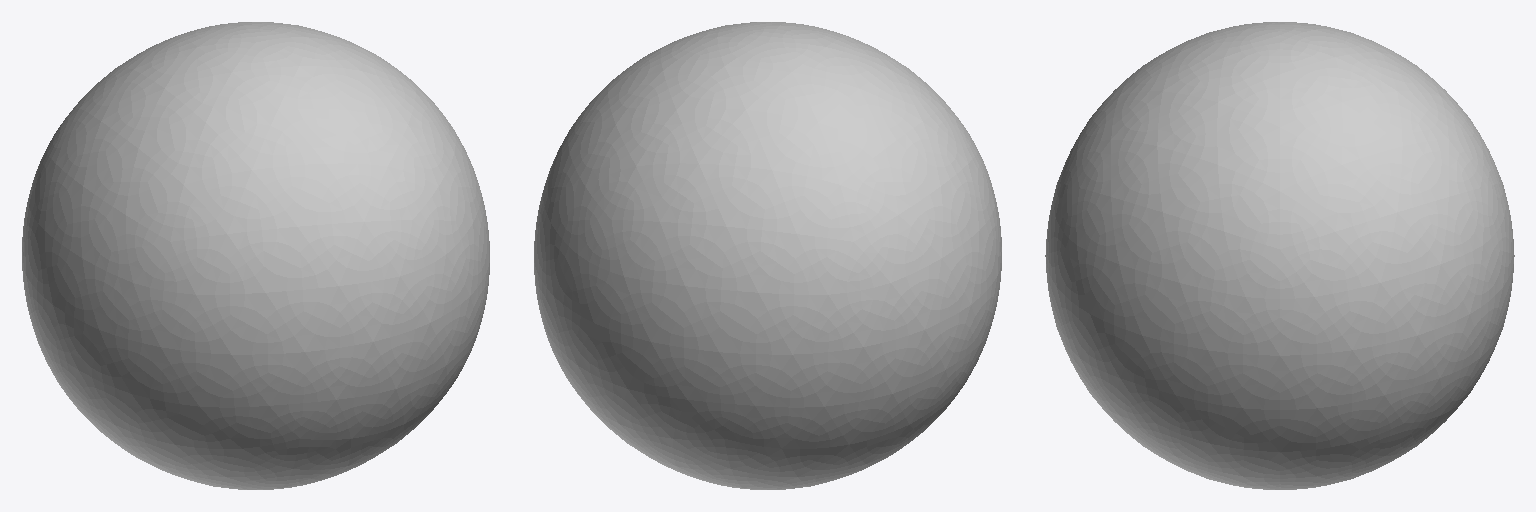
Rendered from Ball.obj.
3 renders of one model, left to right at view 1: azimuth 30°, elevation 25°; view 2: azimuth 150°, elevation 25°; view 3: azimuth 270°, elevation 25°, orthographic.
Size of the model in its own units: 1.96 by 1.97 by 1.96.